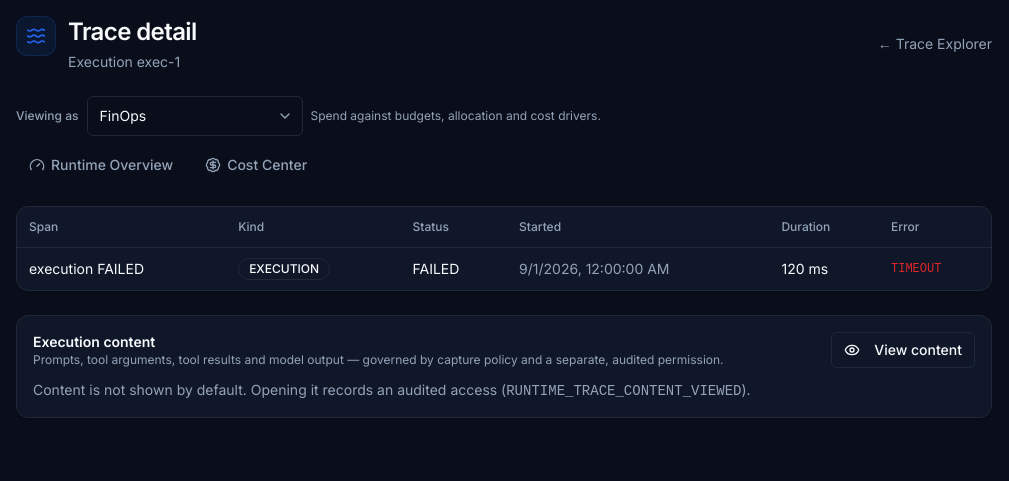
Test: content governance (§4.3) › AC-07/AC-11 — a 403 from the content endpoint is a distinct gated state, not a generic failure
Click the button "View content". click: coordinates (903, 350)
box: [831,332,975,368]
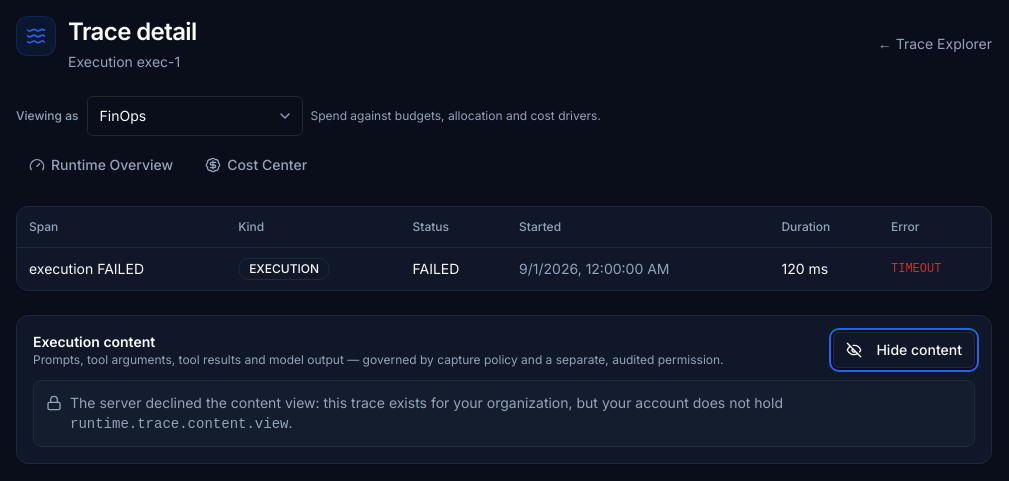
Now the text "does not hold" is shown, box [70,394,783,410]
